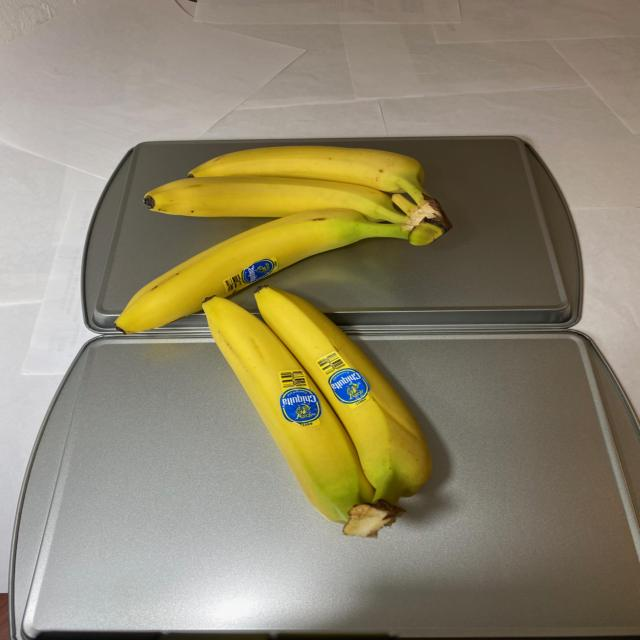Banana: (108, 145, 459, 335), (196, 284, 440, 541)
